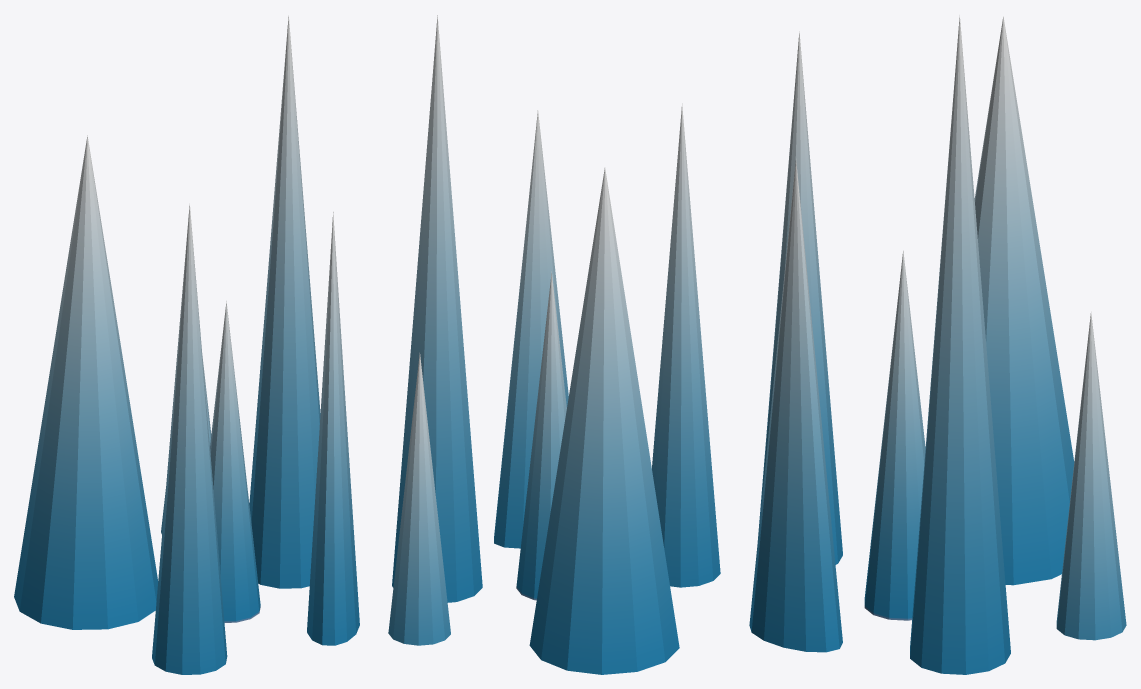
Rendered from stalactmite.fbx.
3 renders of one model, left to right at view 1: azimuth 30°, elevation 25°; view 2: azimuth 150°, elevation 25°; view 3: azimuth 270°, elevation 25°, orthographic. The views are drawn at different scales.
Visible parts, largest first — view 1: Cone.001, Cone.005, Cone.003, Cone.002, Cone; view 2: Cone.001, Cone.005, Cone.003, Cone.002, Cone.004, Cone; view 3: Cone.005, Cone.001, Cone.002, Cone, Cone.004, Cone.003.
Part boxes in pixels (box(x1,y1,x2,y2)): Cone.001: box(14, 135, 158, 629); Cone.005: box(249, 15, 320, 588); Cone.003: box(152, 203, 227, 674); Cone.002: box(307, 212, 359, 645); Cone: box(210, 301, 260, 622); Cone.001: box(529, 167, 679, 674); Cone.005: box(392, 15, 482, 602); Cone.003: box(652, 103, 720, 587); Cone.002: box(494, 110, 568, 548); Cone.004: box(388, 352, 450, 645); Cone: box(516, 271, 566, 600); Cone.005: box(910, 15, 1010, 674); Cone.001: box(974, 16, 1074, 585); Cone.002: box(749, 159, 842, 652); Cone: box(864, 251, 925, 620); Cone.004: box(1056, 311, 1126, 640); Cone.003: box(757, 31, 842, 564).
Bounding box in the file's own units: 173 × 324 × 173.
6 materials, 6 textured.
